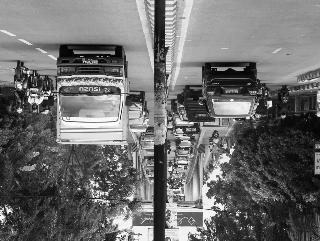mobil: (204, 62, 256, 118)
motor: (13, 59, 27, 111), (276, 83, 290, 119), (28, 70, 40, 110), (40, 72, 52, 111)
truck: (54, 38, 128, 146)
